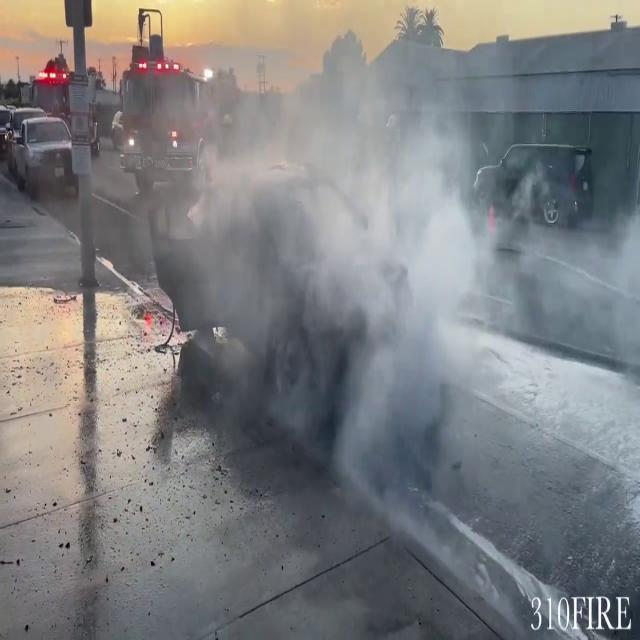Smoke: (172, 1, 518, 486)
